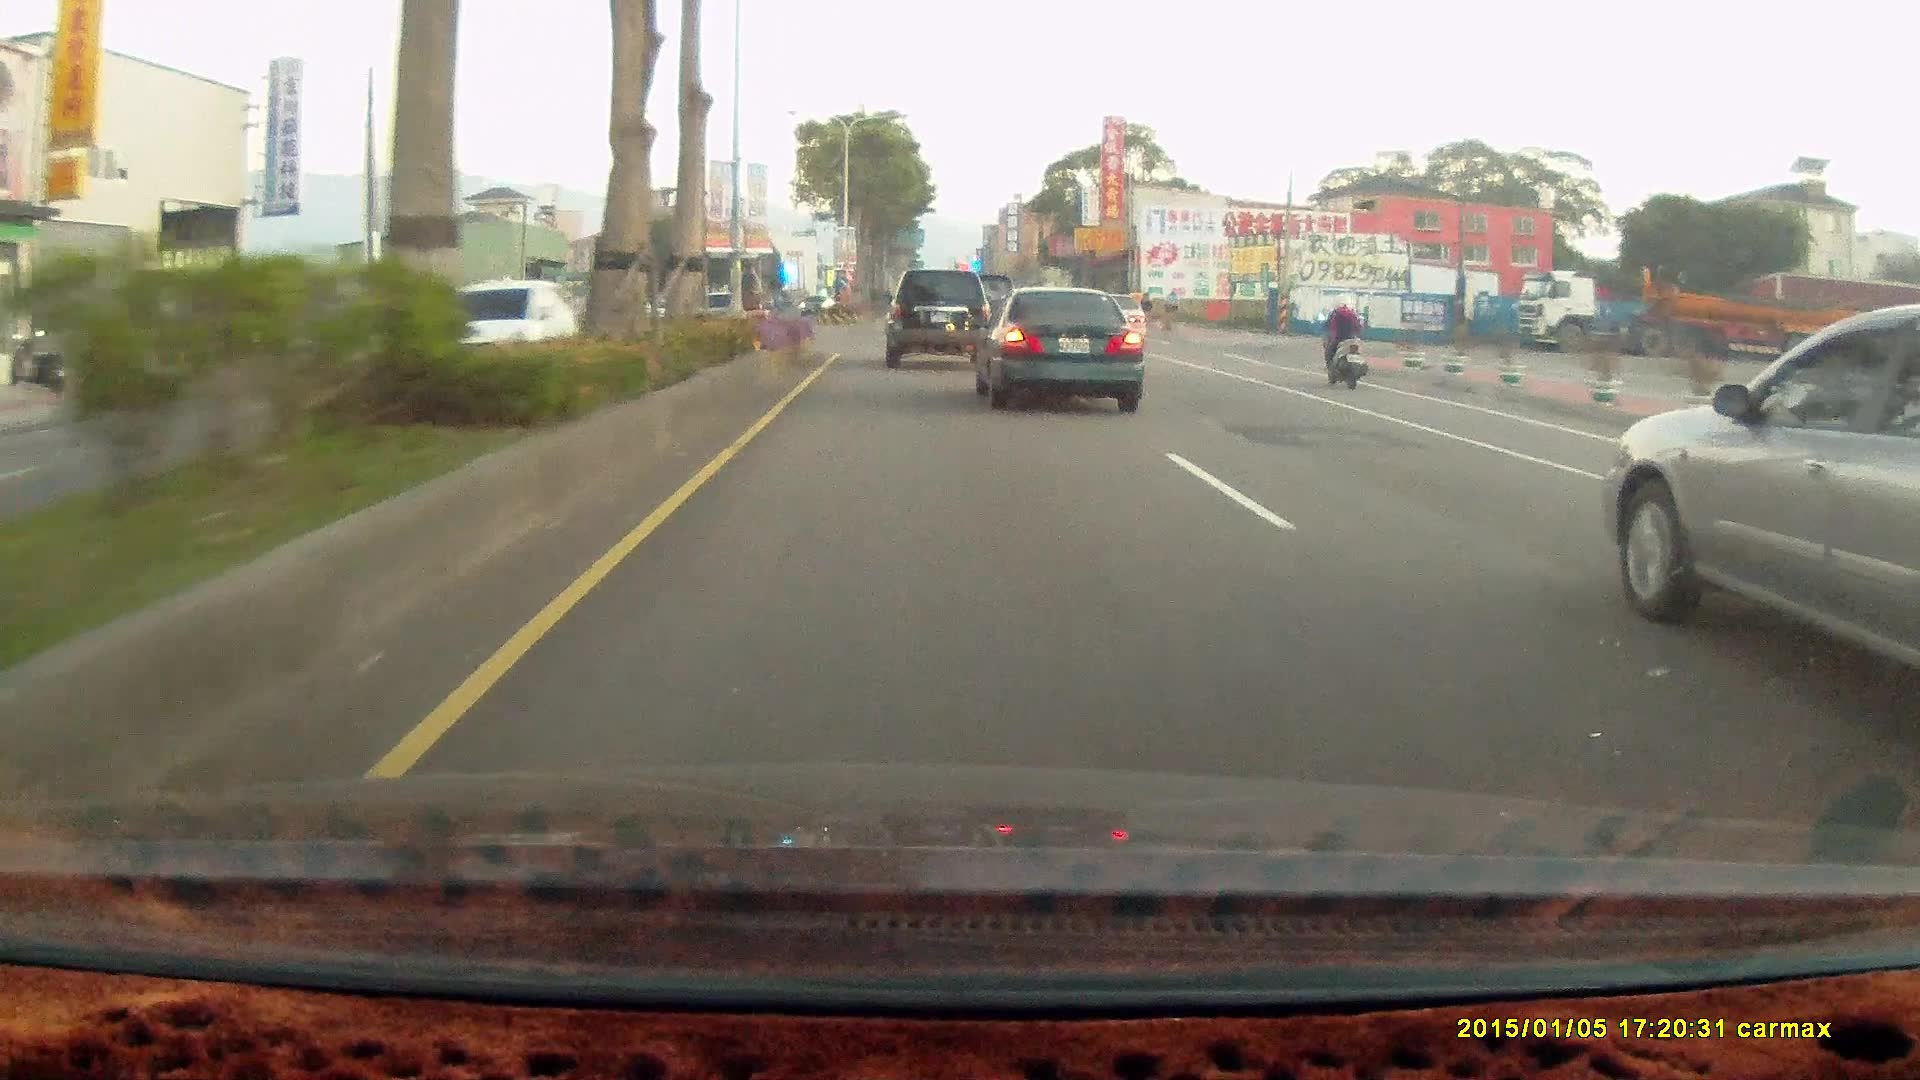rider: (1310, 288, 1375, 395), (1313, 292, 1369, 388)
vehicle: (1616, 299, 1920, 716), (1512, 264, 1881, 362), (968, 286, 1143, 413), (976, 290, 1145, 411), (425, 273, 584, 374), (886, 268, 996, 370), (884, 267, 992, 368)
